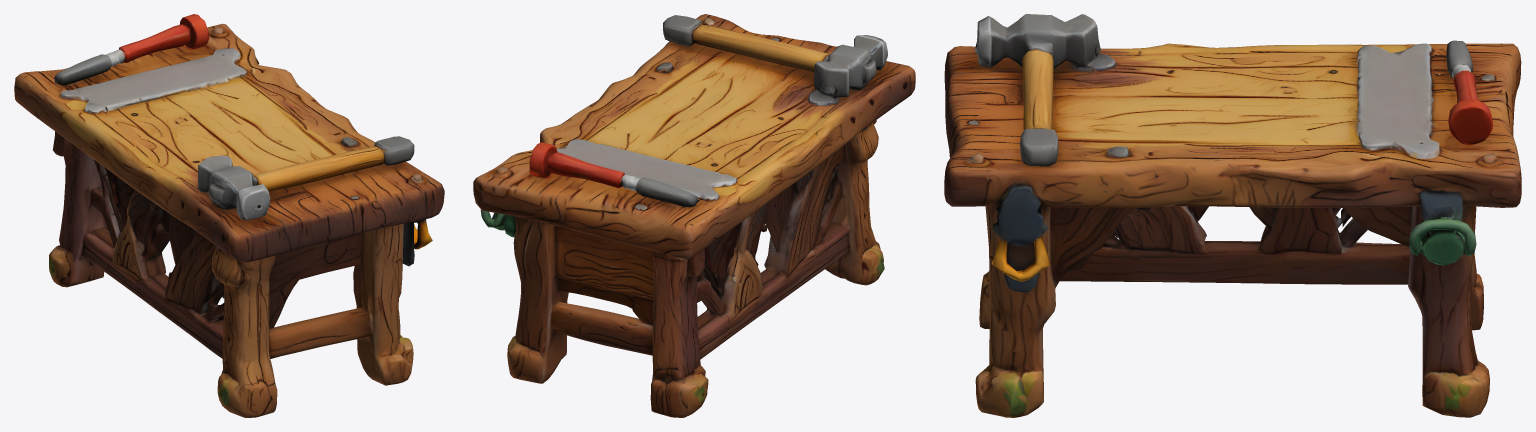
The model's file is bench.glb.
3 views of the same model, side by side, from view 1: azimuth 30°, elevation 25°; view 2: azimuth 150°, elevation 25°; view 3: azimuth 270°, elevation 25° (orthographic). The views are drawn at different scales.
Visible parts, largest first — view 1: tripo_node_657f6411-ac86-4f11-8f2f-1aded5d5d6d6; view 2: tripo_node_657f6411-ac86-4f11-8f2f-1aded5d5d6d6; view 3: tripo_node_657f6411-ac86-4f11-8f2f-1aded5d5d6d6.
Part boxes in pixels (left/top/right/bottom): tripo_node_657f6411-ac86-4f11-8f2f-1aded5d5d6d6: left=14, top=14, right=444, bottom=417; tripo_node_657f6411-ac86-4f11-8f2f-1aded5d5d6d6: left=473, top=14, right=915, bottom=417; tripo_node_657f6411-ac86-4f11-8f2f-1aded5d5d6d6: left=944, top=14, right=1521, bottom=417.
Size of the model in its own units: 0.5744 by 0.5702 by 1.
Materials: 1 (1 with a texture image).
